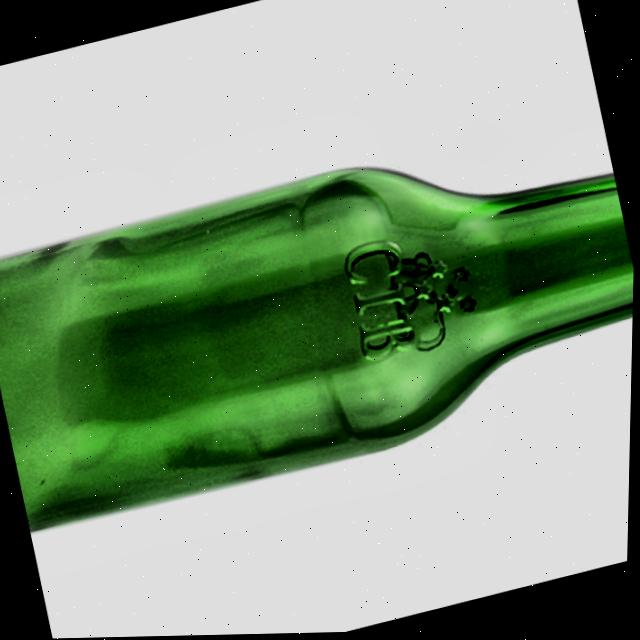glass: (0, 166, 635, 537)
